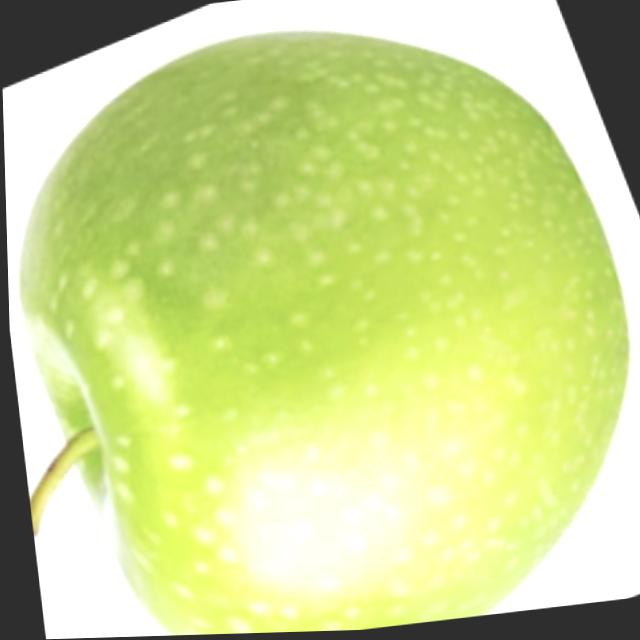organik: (1, 28, 640, 640)
